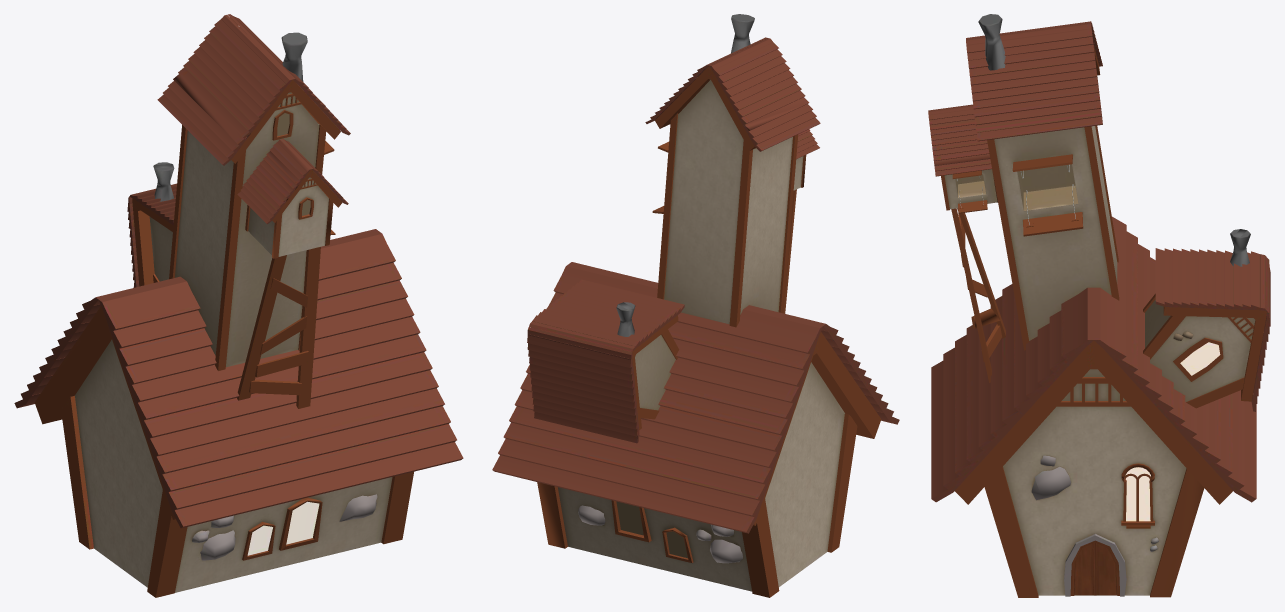
File: rumah npc 5.fbx
3 views of the same model, side by side, from view 1: azimuth 30°, elevation 25°; view 2: azimuth 150°, elevation 25°; view 3: azimuth 270°, elevation 25° (orthographic). The views are drawn at different scales.
Parts seen in each view (by area): view 1: defaultMaterial.099; view 2: defaultMaterial.099; view 3: defaultMaterial.099.
Part boxes in pixels (x1,y1,x2,y2): defaultMaterial.099: (14, 14, 463, 597); defaultMaterial.099: (492, 14, 899, 597); defaultMaterial.099: (928, 14, 1270, 597).
Size of the model in its own units: 680 by 1258 by 748.
7 materials, 7 textured.
